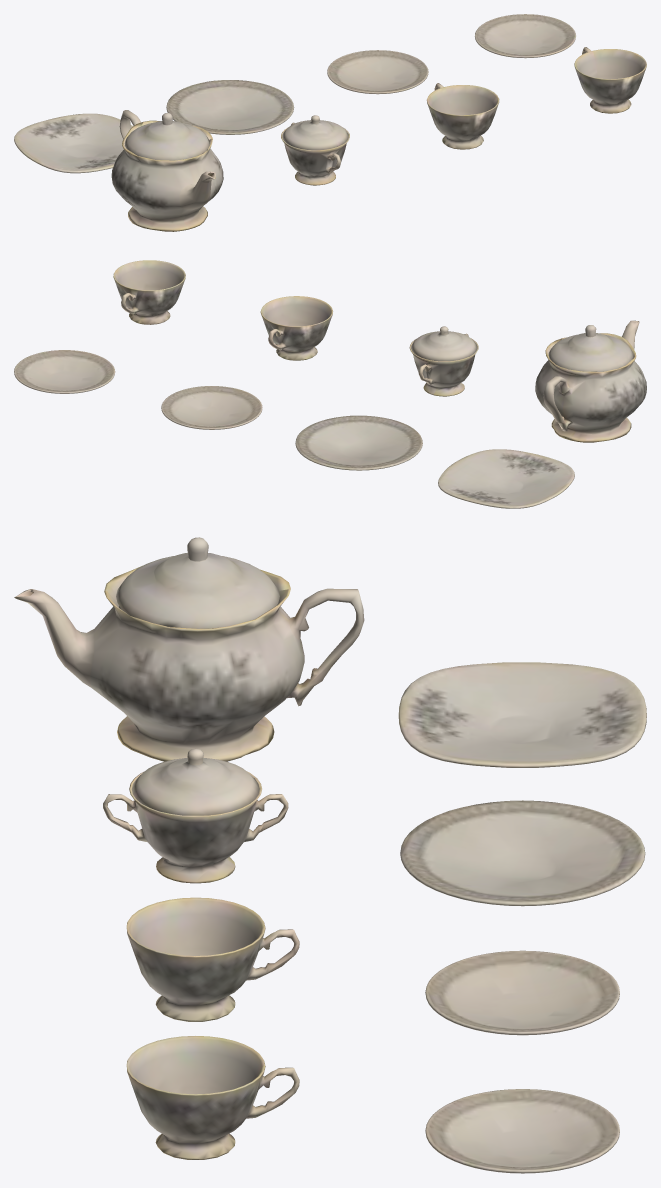
Rendered from tea-set.glb.
3 views of the same model, one above another, from view 1: azimuth 30°, elevation 25°; view 2: azimuth 150°, elevation 25°; view 3: azimuth 270°, elevation 25° (orthographic). The views are drawn at different scales.
Parts seen in each view (by area): view 1: tea_set_01_teapot_01, tea_set_01_plate_large_circular_03, tea_set_01_plate_large_square_01, tea_set_01_cup_small_01, tea_set_01_saucer_circular_04, tea_set_01_saucer_circular_03, tea_set_01_cup_small_02, tea_set_01_teapot_01_lid, tea_set_01_sugar_cup_01, tea_set_01_sugar_cup_01_lid; view 2: tea_set_01_teapot_01, tea_set_01_plate_large_square_01, tea_set_01_plate_large_circular_03, tea_set_01_cup_small_02, tea_set_01_cup_small_01, tea_set_01_saucer_circular_04, tea_set_01_saucer_circular_03, tea_set_01_teapot_01_lid, tea_set_01_sugar_cup_01, tea_set_01_sugar_cup_01_lid; view 3: tea_set_01_teapot_01, tea_set_01_plate_large_square_01, tea_set_01_plate_large_circular_03, tea_set_01_cup_small_01, tea_set_01_cup_small_02, tea_set_01_saucer_circular_03, tea_set_01_saucer_circular_04, tea_set_01_teapot_01_lid, tea_set_01_sugar_cup_01, tea_set_01_sugar_cup_01_lid.
Part boxes in pixels (left/top/right/bottom): tea_set_01_teapot_01: left=111, top=110, right=223, bottom=231; tea_set_01_plate_large_circular_03: left=166, top=80, right=294, bottom=134; tea_set_01_plate_large_square_01: left=14, top=113, right=133, bottom=173; tea_set_01_cup_small_01: left=426, top=83, right=499, bottom=149; tea_set_01_saucer_circular_04: left=327, top=50, right=428, bottom=94; tea_set_01_saucer_circular_03: left=474, top=14, right=575, bottom=58; tea_set_01_cup_small_02: left=574, top=47, right=646, bottom=113; tea_set_01_teapot_01_lid: left=125, top=113, right=209, bottom=160; tea_set_01_sugar_cup_01: left=281, top=122, right=349, bottom=185; tea_set_01_sugar_cup_01_lid: left=282, top=115, right=348, bottom=150; tea_set_01_teapot_01: left=535, top=320, right=646, bottom=442; tea_set_01_plate_large_square_01: left=438, top=449, right=574, bottom=508; tea_set_01_plate_large_circular_03: left=295, top=415, right=422, bottom=470; tea_set_01_cup_small_02: left=113, top=260, right=185, bottom=324; tea_set_01_cup_small_01: left=260, top=296, right=332, bottom=360; tea_set_01_saucer_circular_04: left=161, top=386, right=262, bottom=429; tea_set_01_saucer_circular_03: left=14, top=350, right=115, bottom=393; tea_set_01_teapot_01_lid: left=548, top=325, right=633, bottom=371; tea_set_01_sugar_cup_01: left=409, top=333, right=478, bottom=396; tea_set_01_sugar_cup_01_lid: left=411, top=326, right=477, bottom=361; tea_set_01_teapot_01: left=14, top=565, right=364, bottom=761; tea_set_01_plate_large_square_01: left=398, top=662, right=646, bottom=767; tea_set_01_plate_large_circular_03: left=400, top=800, right=645, bottom=906; tea_set_01_cup_small_01: left=126, top=897, right=299, bottom=1021; tea_set_01_cup_small_02: left=126, top=1036, right=299, bottom=1159; tea_set_01_saucer_circular_03: left=425, top=1089, right=619, bottom=1173; tea_set_01_saucer_circular_04: left=425, top=950, right=619, bottom=1035; tea_set_01_teapot_01_lid: left=116, top=537, right=279, bottom=628; tea_set_01_sugar_cup_01: left=103, top=771, right=288, bottom=883; tea_set_01_sugar_cup_01_lid: left=131, top=748, right=259, bottom=815.
Bounding box in the file's own units: 0.9183 × 0.165 × 0.4838.
Materials: 1 (1 with a texture image).
